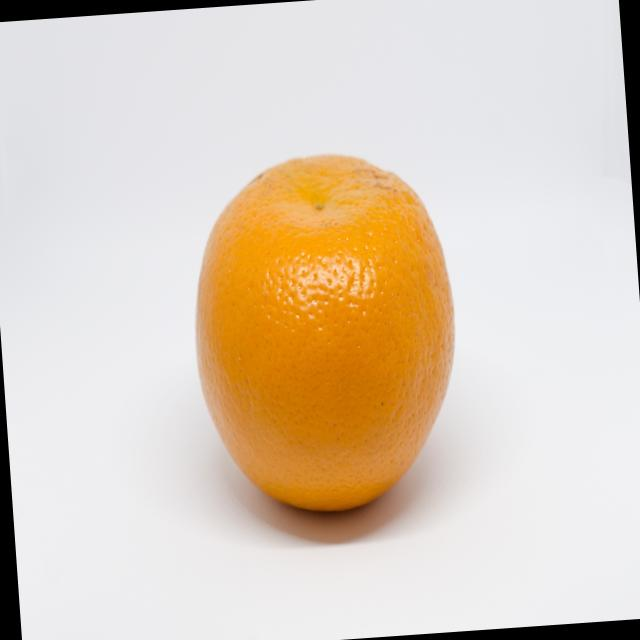orange: (179, 141, 472, 526)
